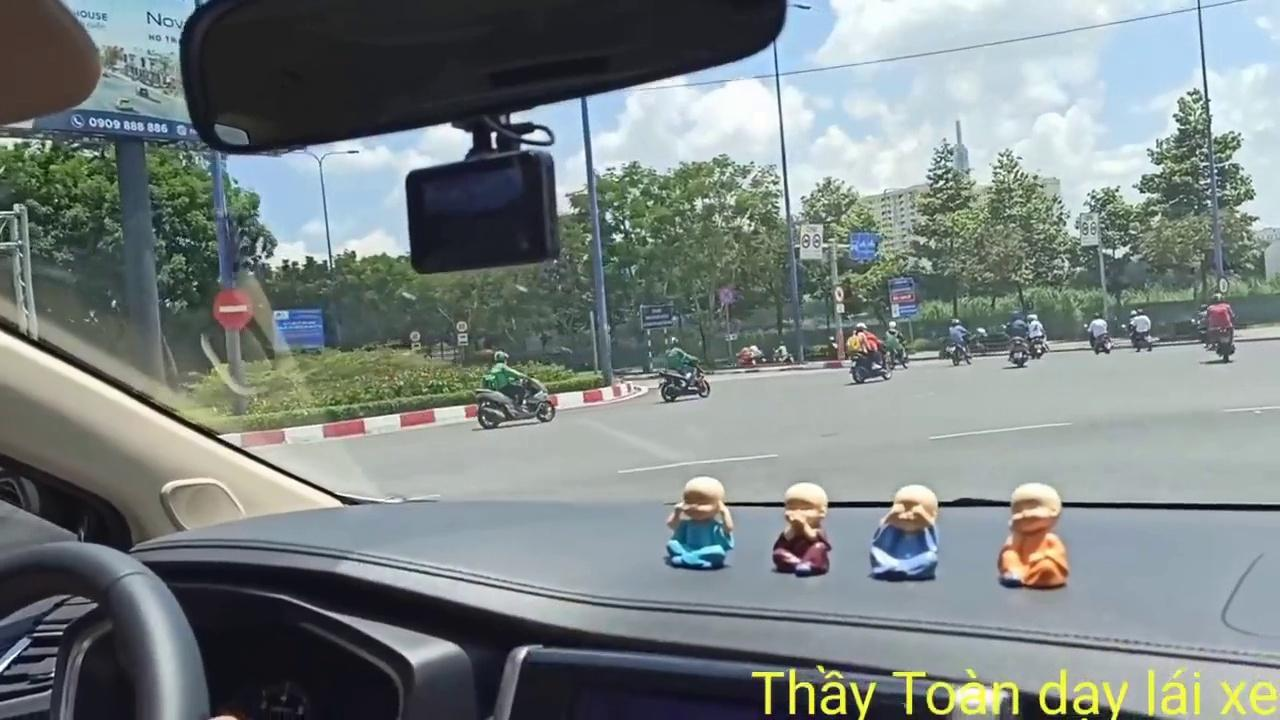Biển phụ: (458, 333, 468, 346)
Cấm cac phương tiện hoạt động trong khung giờ cố định: (800, 221, 824, 260)
Cấm dừng - Cấm đỗ: (719, 286, 735, 304)
Cấm đi ngược chiều: (211, 287, 257, 333)
Khác: (272, 308, 325, 350), (886, 273, 918, 320)
Làn đường cho từng xe: (848, 229, 878, 262)
